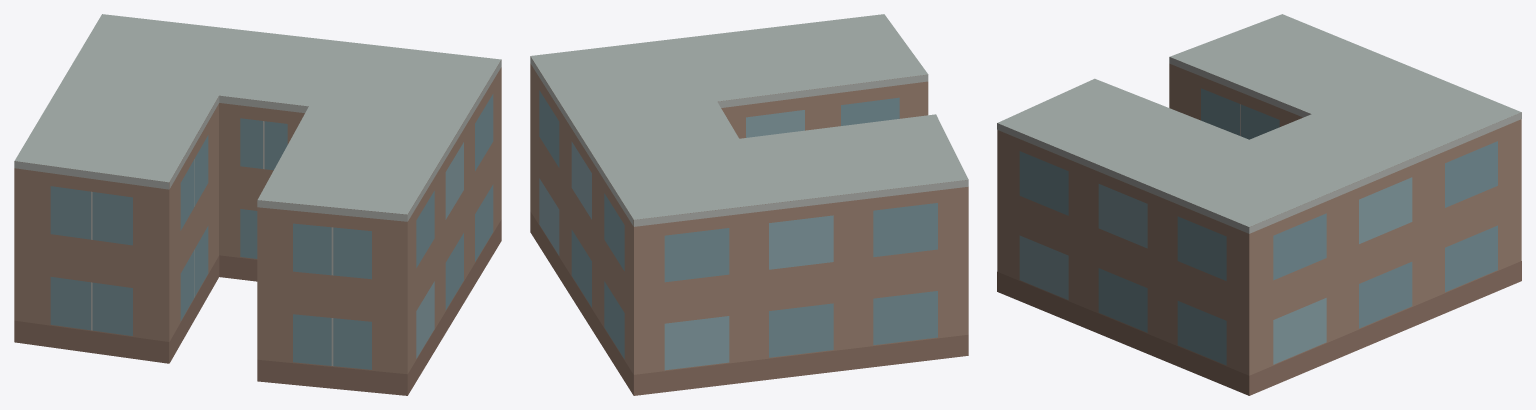
Rendered from survey-upis-32769909.glb.
The picture shows the model from 3 angles, left to right: view 1: azimuth 30°, elevation 25°; view 2: azimuth 150°, elevation 25°; view 3: azimuth 270°, elevation 25°; orthographic projection. The views are drawn at different scales.
Visible parts, largest first — view 1: survey-upis-32769909.tmp; view 2: survey-upis-32769909.tmp; view 3: survey-upis-32769909.tmp.
Boxes of the visible parts, x1,y1,x2,y2 form: survey-upis-32769909.tmp: [14, 14, 501, 395]; survey-upis-32769909.tmp: [530, 14, 968, 395]; survey-upis-32769909.tmp: [997, 14, 1521, 395].
Size of the model in its own units: 16.53 by 6.1 by 17.19.
